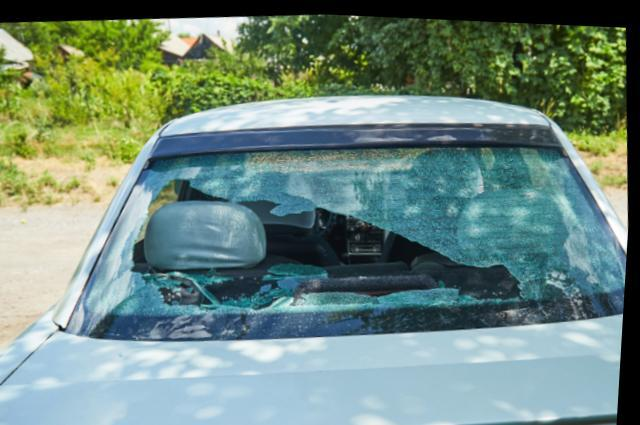glass shatter: (68, 139, 629, 338)
